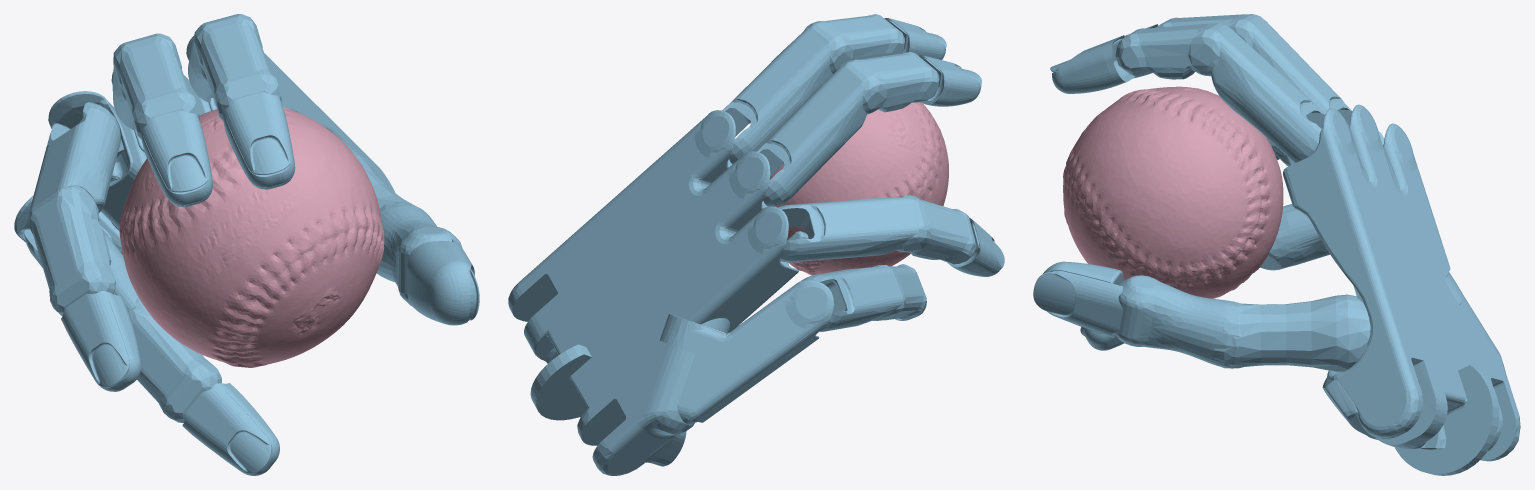
The picture shows the model from 3 angles, left to right: view 1: azimuth 30°, elevation 25°; view 2: azimuth 150°, elevation 25°; view 3: azimuth 270°, elevation 25°; orthographic projection. The views are drawn at different scales.
Parts seen in each view (by area): view 1: world, baseball.stl; view 2: world, baseball.stl; view 3: world, baseball.stl.
Part boxes in pixels (x1,y1,x2,y2): world: [14, 14, 479, 475]; baseball.stl: [119, 106, 384, 367]; world: [508, 14, 1004, 475]; baseball.stl: [769, 102, 948, 275]; world: [1033, 14, 1520, 475]; baseball.stl: [1063, 86, 1283, 298].
Bounding box in the file's own units: 0.1487 × 0.1441 × 0.1606.
